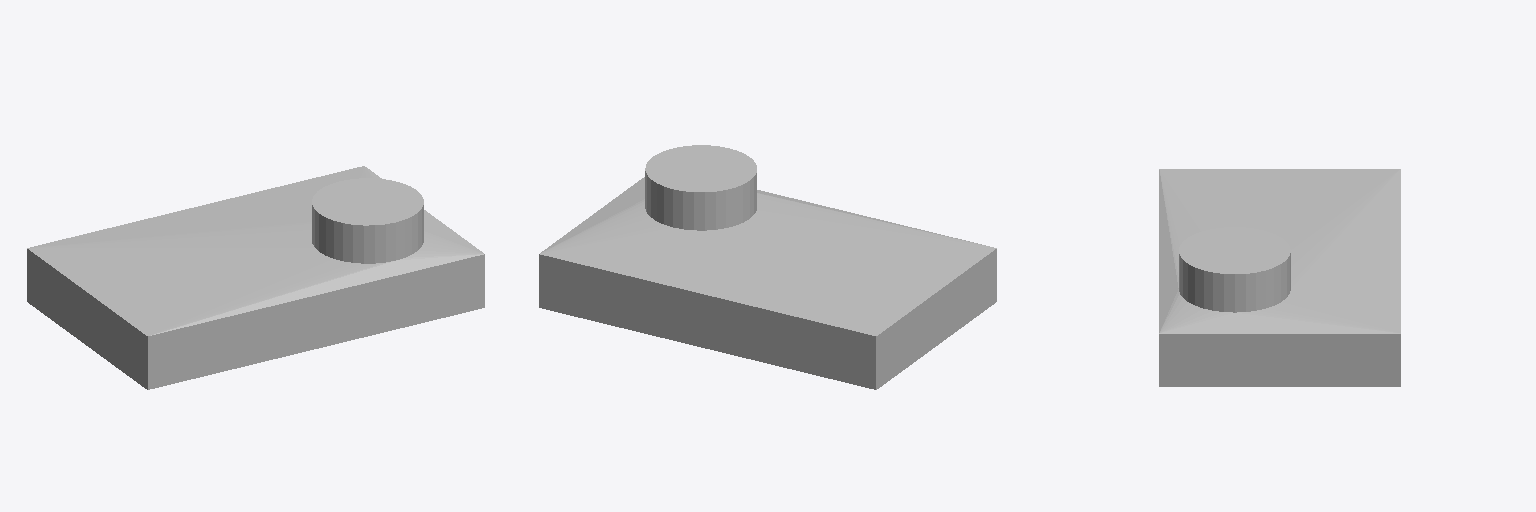
The model's file is camera.obj.
The picture shows the model from 3 angles: view 1: azimuth 30°, elevation 25°; view 2: azimuth 150°, elevation 25°; view 3: azimuth 270°, elevation 25°; orthographic projection.
Visible parts, largest first — view 1: Cube; view 2: Cube; view 3: Cube.
Part boxes in pixels (x1,y1,x2,y2): Cube: (27, 166, 484, 389); Cube: (539, 145, 996, 389); Cube: (1159, 169, 1400, 386).
Bounding box in the file's own units: 3.23 × 0.8934 × 2.